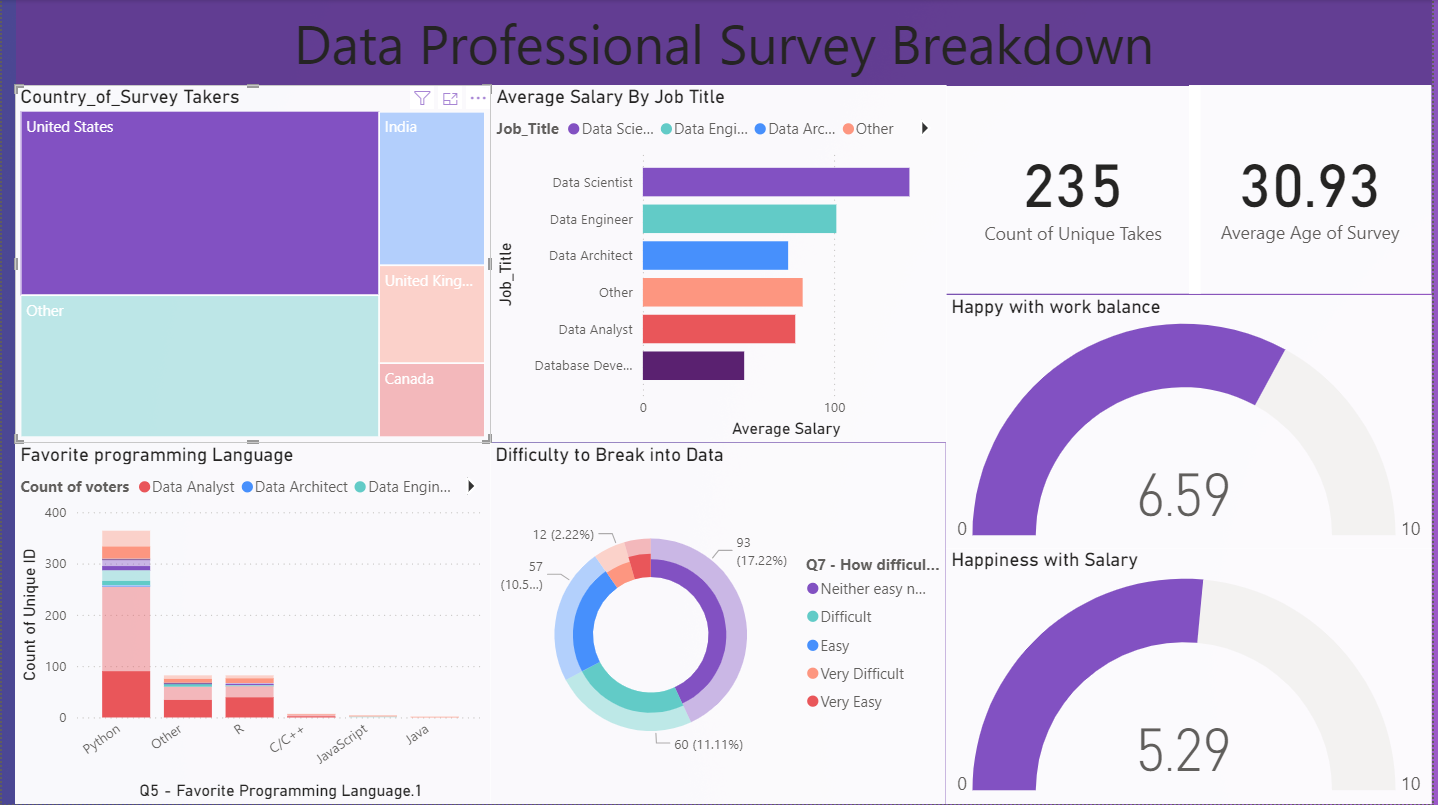

What the dashboard file says about the page in this screenshot:
{"tool":"powerbi","page":{"name":"Page 1","canvas":[1280,720],"ordinal":0},"visuals":[{"type":"textbox","box":[12.2,0,1267.8,77.2],"z":0},{"type":"card","fields":{"Values":["CountNonNull(Data Professional Survey.Unique ID)"]},"box":[845.2,77.4,227.7,186.3],"z":1},{"type":"card","fields":{"Values":["Avg(Data Professional Survey.Q10 - Current Age)"]},"box":[1063.1,76.5,216.9,187.2],"z":2},{"type":"barChart","title":"Average Salary By Job Title","fields":{"Category":["Data Professional Survey.Q1 - Which Title Best Fits your Current Role?.1"],"Y":["Avg(Data Professional Survey.Average Salary)"],"Series":["Data Professional Survey.Q1 - Which Title Best Fits your Current Role?.1"]},"box":[437.5,76.5,407.8,320.5],"z":3},{"type":"columnChart","title":"Favorite programming Language","fields":{"Category":["Data Professional Survey.Q5 - Favorite Programming Language.1"],"Y":["CountNonNull(Data Professional Survey.Unique ID)"],"Series":["Data Professional Survey.Q1 - Which Title Best Fits your Current Role?.1"]},"box":[11.7,397,425.8,324.1],"z":4},{"type":"treemap","title":"Country_of_Survey Takers","fields":{"Group":["Data Professional Survey.Q11 - Which Country do you live in?.1"],"Values":["CountNonNull(Data Professional Survey.Q11 - Which Country do you live in?.1)"]},"box":[11.7,76.5,425.8,320.5],"z":5},{"type":"gauge","title":"Happiness with Salary","fields":{"Y":["Avg(Data Professional Survey.Q6 - How Happy are you in your Current Position with the following? (Salary))"],"MinValue":["Min(Data Professional Survey.Q6 - How Happy are you in your Current Position with the following? (Salary))1"],"MaxValue":["Max(Data Professional Survey.Q6 - How Happy are you in your Current Position with the following? (Salary))2"]},"box":[845.2,490.6,434.8,230.4],"z":6},{"type":"gauge","title":"Happy with work balance","fields":{"Y":["Avg(Data Professional Survey.Q6 - How Happy are you in your Current Position with the following? (Work/Life Balance))"],"MinValue":["Min(Data Professional Survey.Q6 - How Happy are you in your Current Position with the following? (Work/Life Balance))1"],"MaxValue":["Max(Data Professional Survey.Q6 - How Happy are you in your Current Position with the following? (Work/Life Balance))2"]},"box":[845.2,263.7,434.8,226.8],"z":7},{"type":"donutChart","title":"Difficulty to Break into Data","fields":{"Category":["Data Professional Survey.Q7 - How difficult was it for you to break into Data?"],"Y":["CountNonNull(Data Professional Survey.Q7 - How difficult was it for you to break into Data?)"]},"box":[437.2,396.6,407.9,324.5],"z":8}]}

Visuals, with their boxes in screenshot pixels (x1, y1, x2, y2), scaled from the page's 1280x720 canvas onto the 1438x805 screenshot:
textbox: Rect(14, 0, 1437, 86)
card - CountNonNull(Data Professional Survey.Unique ID): Rect(950, 87, 1205, 295)
card - Avg(Data Professional Survey.Q10 - Current Age): Rect(1194, 86, 1437, 295)
"Average Salary By Job Title" barChart: Rect(492, 86, 950, 444)
"Favorite programming Language" columnChart: Rect(13, 444, 492, 804)
"Country_of_Survey Takers" treemap: Rect(13, 86, 492, 444)
"Happiness with Salary" gauge: Rect(950, 549, 1437, 804)
"Happy with work balance" gauge: Rect(950, 295, 1437, 548)
"Difficulty to Break into Data" donutChart: Rect(491, 443, 949, 804)
